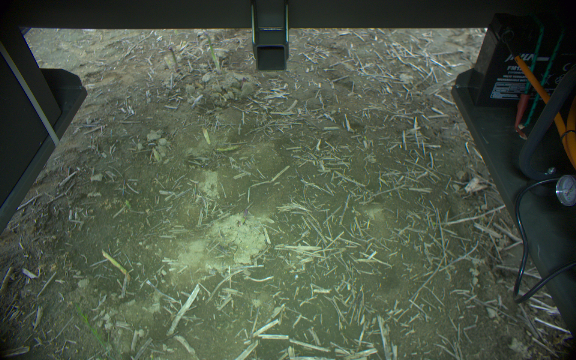aspa: (98, 248, 131, 284), (203, 34, 222, 77)
